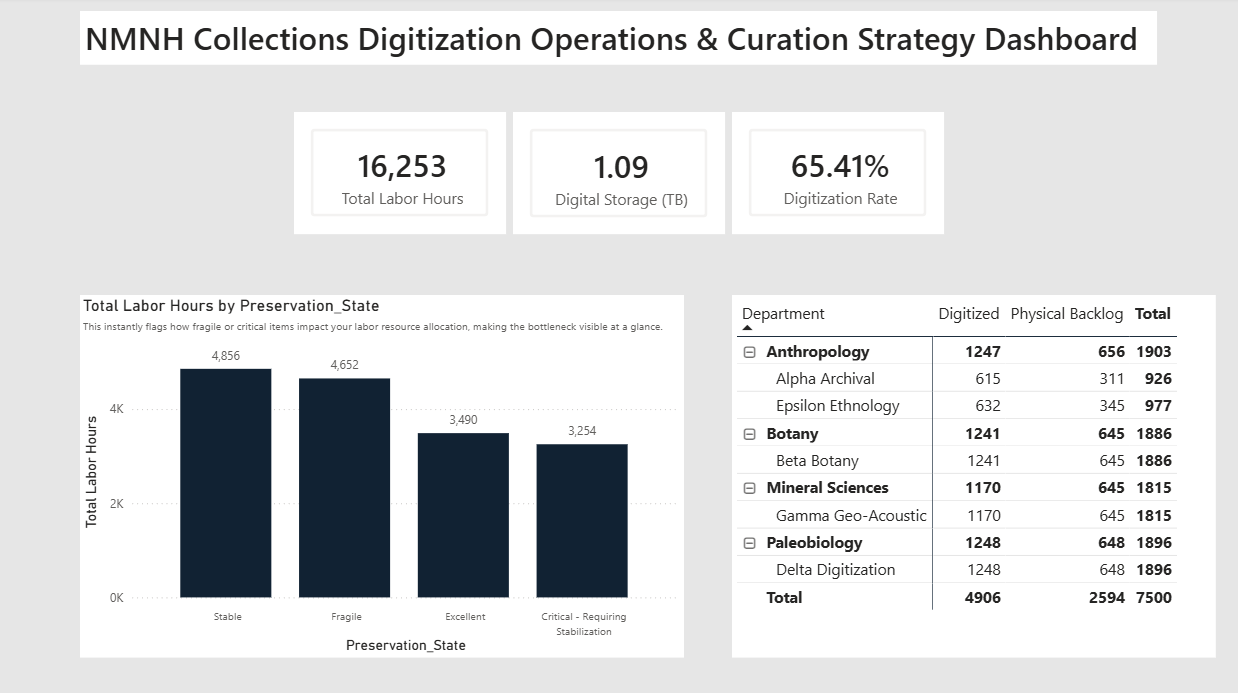

The page's visual inventory and layout, read from the dashboard file:
{"tool":"powerbi","page":{"name":"Page 1","canvas":[1280,720],"ordinal":0},"visuals":[{"type":"cardVisual","fields":{"Data":["_DAX Measures.Digitization Rate"]},"box":[756.1,117.6,216.9,124.8],"z":1000},{"type":"cardVisual","fields":{"Data":["_DAX Measures.Total Labor Hours"]},"box":[308,117.6,216.9,124.8],"z":2000},{"type":"cardVisual","fields":{"Data":["_DAX Measures.Digital Storage (TB)"]},"box":[532.5,117.3,216.9,125.5],"z":3000},{"type":"clusteredColumnChart","fields":{"Category":["Dim_Collection_Items.Preservation_State"],"Y":["_DAX Measures.Total Labor Hours"]},"box":[89,304.9,618,371.4],"z":4000},{"type":"pivotTable","fields":{"Rows":["Dim_Curation_Teams.Department","Dim_Curation_Teams.Team_Name"],"Columns":["Fact_Catalog_Transactions.Digitization Status Label"],"Values":["Sum(Fact_Catalog_Transactions.Objects_Processed_Count)"]},"box":[756.1,304.9,495.2,371.4],"z":5000},{"type":"textbox","box":[89,14.3,1102,55.3],"z":5001}]}

Visuals, with their boxes in screenshot pixels (x1, y1, x2, y2), scaled from the page's 1280x720 canvas onto the 1238x693 screenshot:
cardVisual - _DAX Measures.Digitization Rate: (left=731, top=113, right=941, bottom=233)
cardVisual - _DAX Measures.Total Labor Hours: (left=298, top=113, right=508, bottom=233)
cardVisual - _DAX Measures.Digital Storage (TB): (left=515, top=113, right=725, bottom=234)
clusteredColumnChart - Dim_Collection_Items.Preservation_State x _DAX Measures.Total Labor Hours: (left=86, top=293, right=684, bottom=651)
pivotTable - Dim_Curation_Teams.Department x Dim_Curation_Teams.Team_Name: (left=731, top=293, right=1210, bottom=651)
textbox: (left=86, top=14, right=1152, bottom=67)
